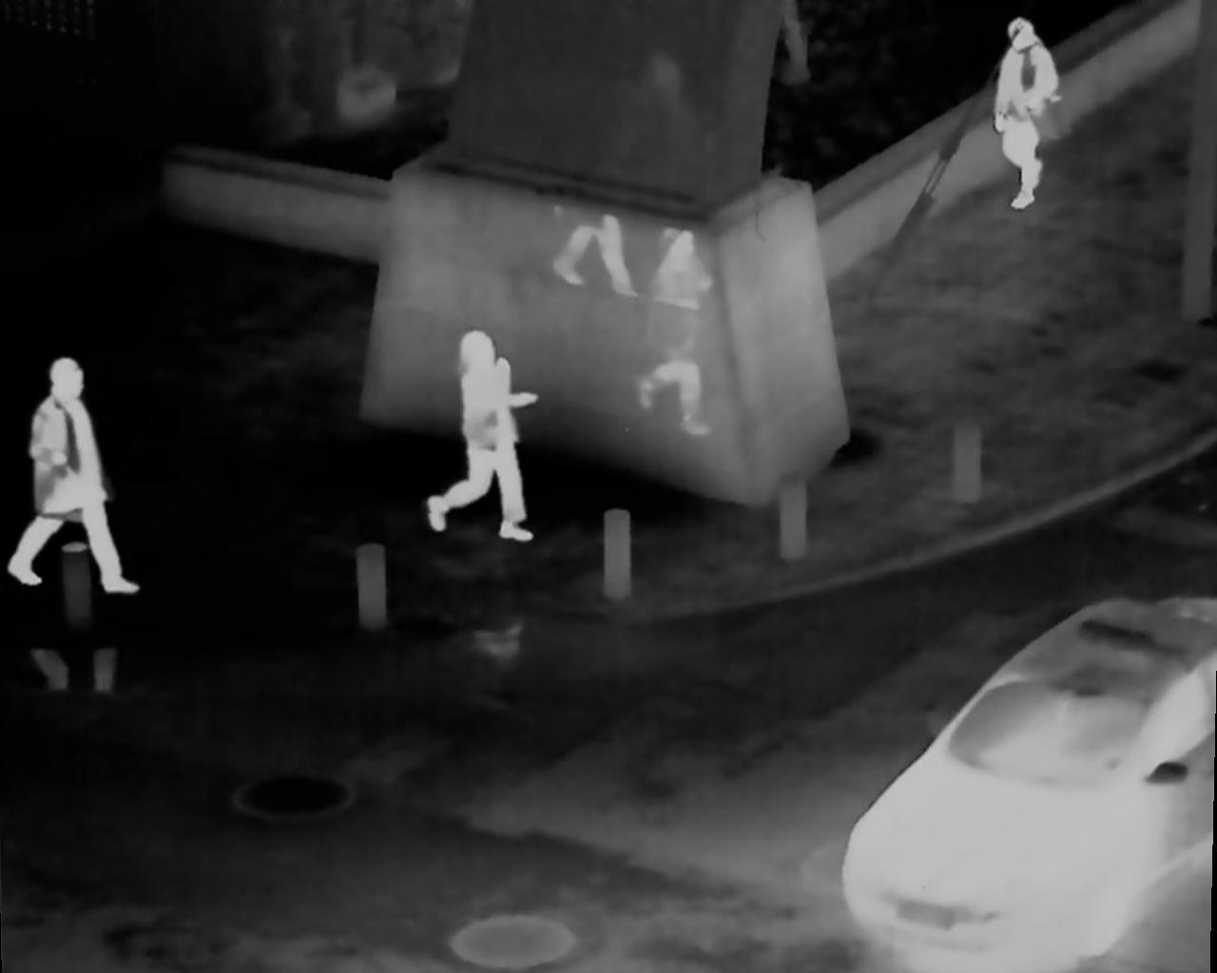person: (10, 355, 141, 597), (426, 324, 538, 549), (988, 19, 1060, 219)
